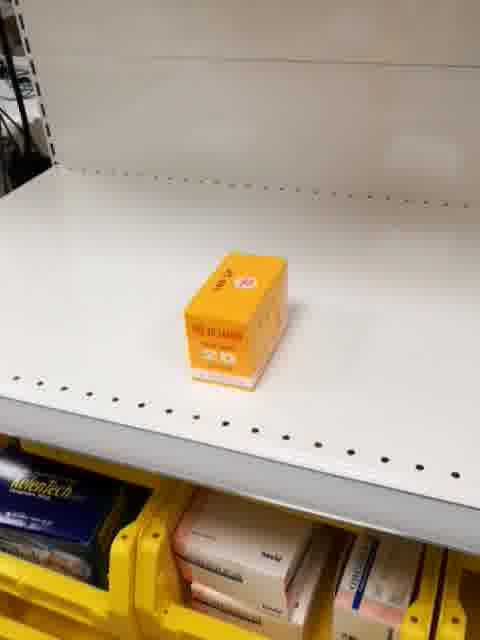jasminetea: (183, 248, 289, 393)
